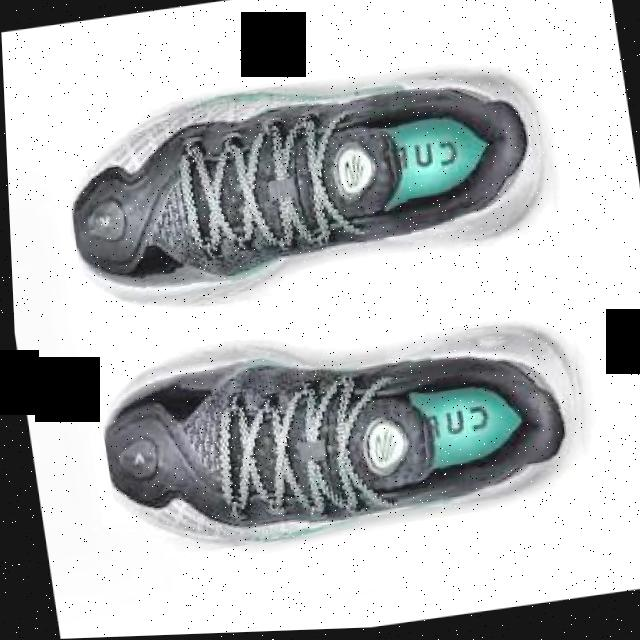shoe: (54, 52, 566, 324), (87, 294, 597, 563)
